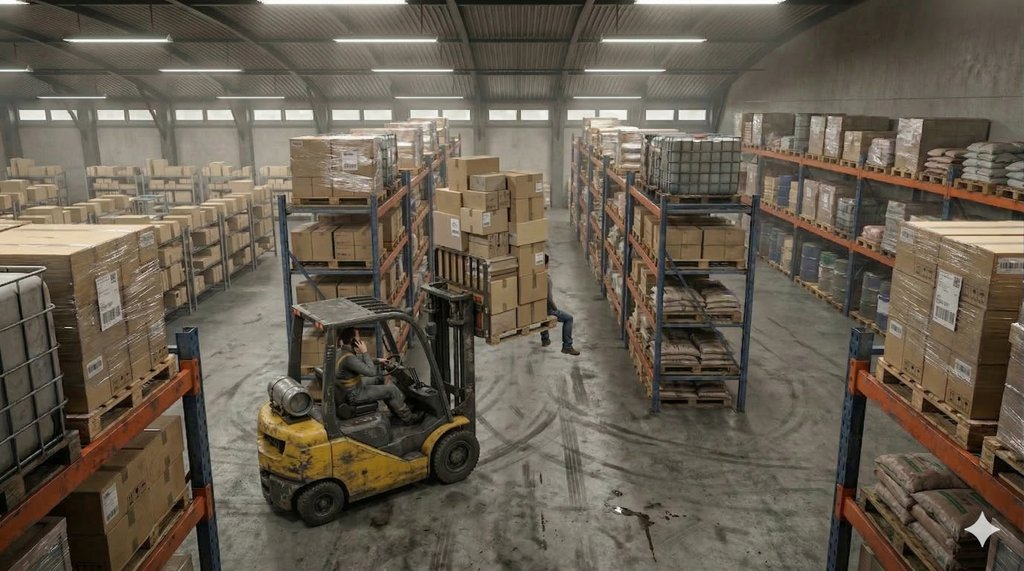forklift: (231, 265, 524, 517)
person: (330, 328, 421, 410)
